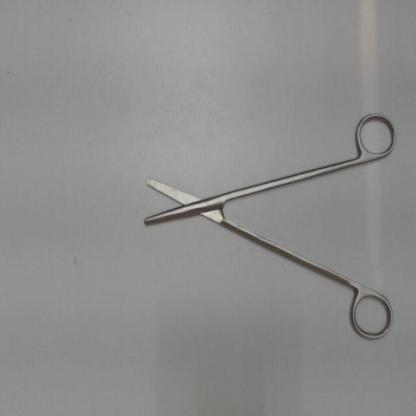9 Metzenbaum Scissors: (140, 106, 402, 348)
